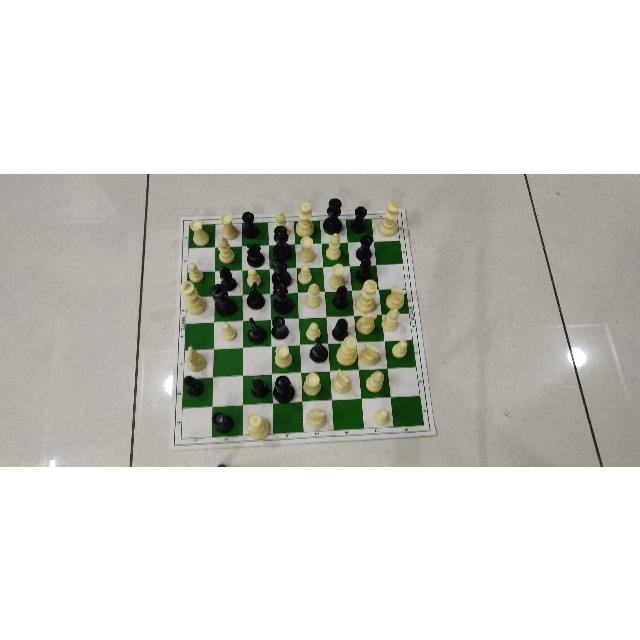black-bishop: (244, 376, 272, 402), (184, 378, 211, 403), (215, 271, 241, 294), (182, 374, 206, 397), (328, 294, 354, 315), (355, 257, 375, 282), (219, 264, 238, 290), (332, 319, 362, 335), (332, 283, 350, 309), (249, 377, 270, 399), (332, 318, 350, 340), (357, 266, 380, 283)
black-king: (211, 282, 237, 316), (271, 252, 291, 287), (324, 197, 342, 235), (273, 297, 303, 317), (270, 271, 297, 291), (216, 300, 242, 320)
black-knight: (246, 321, 275, 345), (302, 344, 328, 370), (245, 280, 265, 308), (308, 336, 329, 362), (244, 241, 265, 266), (247, 318, 267, 344), (246, 297, 270, 318), (245, 248, 269, 268)
black-queen: (274, 373, 302, 400), (272, 225, 291, 259), (273, 283, 295, 312), (273, 374, 294, 402), (321, 218, 346, 239), (274, 247, 295, 265)
black-rook: (212, 407, 242, 434), (210, 411, 235, 435), (268, 314, 291, 340), (241, 210, 262, 238), (277, 321, 301, 344), (242, 224, 267, 244), (355, 234, 375, 259), (350, 206, 369, 232), (350, 220, 374, 240), (354, 245, 377, 262)
white-bishop: (360, 370, 390, 395), (384, 315, 412, 339), (214, 235, 237, 263), (325, 231, 345, 261), (272, 210, 292, 239), (321, 243, 348, 264), (304, 280, 323, 308), (215, 248, 240, 268), (380, 306, 399, 332), (270, 223, 296, 241), (304, 294, 326, 315)
white-king: (178, 279, 207, 313), (378, 200, 400, 236), (354, 278, 377, 312), (187, 296, 213, 320), (358, 291, 382, 313), (376, 221, 399, 242)
white-knight: (303, 402, 333, 428), (184, 343, 210, 370), (185, 350, 212, 376), (330, 372, 357, 396), (384, 283, 408, 308), (359, 342, 383, 366), (330, 368, 353, 393), (359, 342, 382, 366), (354, 313, 379, 335), (357, 317, 383, 338), (305, 406, 329, 428), (384, 289, 408, 310)
white-pawn: (363, 398, 393, 425), (384, 340, 415, 365), (214, 323, 240, 347), (187, 270, 211, 293), (217, 320, 239, 344), (243, 271, 266, 292), (302, 320, 323, 342), (244, 266, 264, 288), (300, 271, 321, 291), (306, 323, 329, 341), (373, 407, 393, 427), (389, 338, 409, 358), (186, 262, 206, 282), (296, 264, 315, 284)
white-queen: (295, 200, 316, 236), (245, 405, 273, 432), (329, 343, 358, 368), (335, 335, 359, 365), (247, 413, 270, 439), (298, 221, 320, 241)
white-rook: (188, 219, 212, 247), (273, 347, 301, 371), (303, 374, 331, 398), (217, 212, 240, 240), (326, 262, 349, 289), (272, 343, 294, 369), (297, 235, 317, 263), (301, 372, 322, 396), (190, 225, 214, 245), (327, 271, 353, 289), (299, 247, 322, 267), (217, 226, 241, 244)
